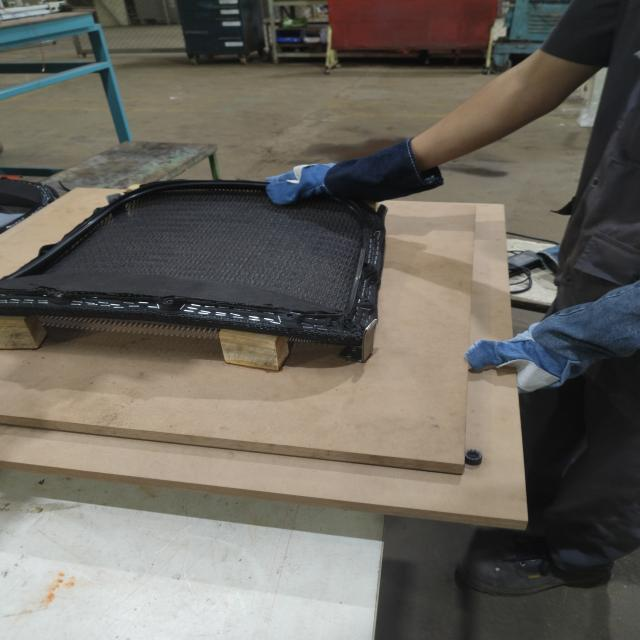Gloves-Detection: (462, 321, 640, 377), (265, 161, 442, 212)
